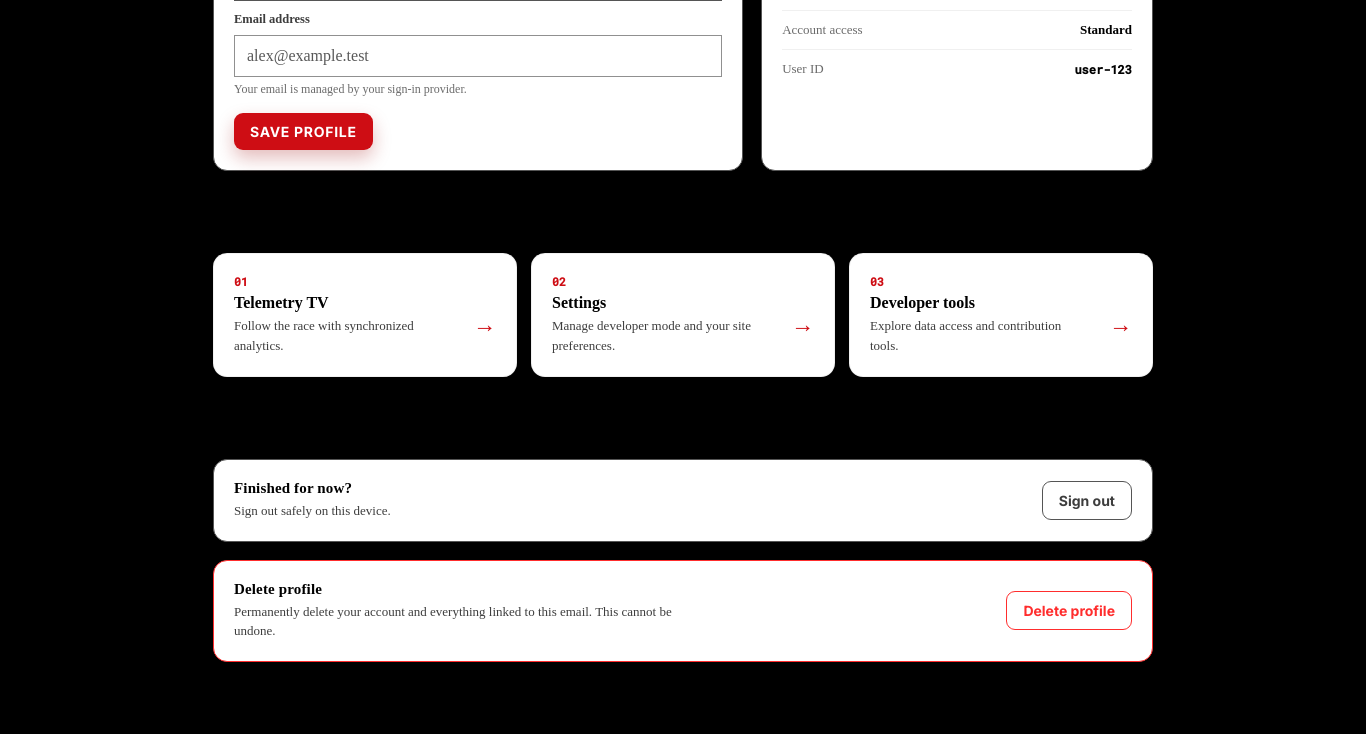
Test: ProfilePage › asks for confirmation before deleting and can be cancelled
(page scrolled)
Click the button "Delete profile": (1069, 610) top-left (1006, 591), bottom-right (1132, 630)
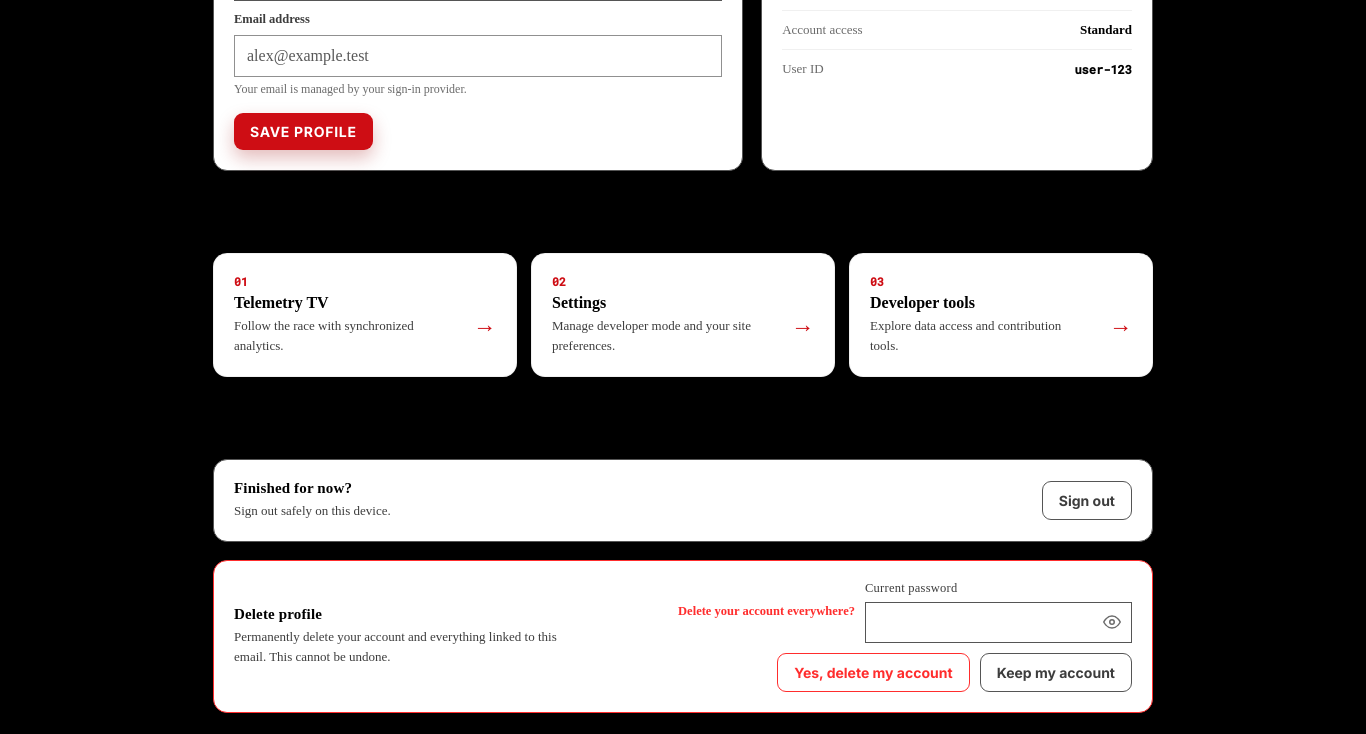
Expected: the element named "Confirm account deletion" is shown, top-left (678, 580), bottom-right (1132, 692)
Click the button "Keep my account": (1056, 672) top-left (980, 652), bottom-right (1132, 692)
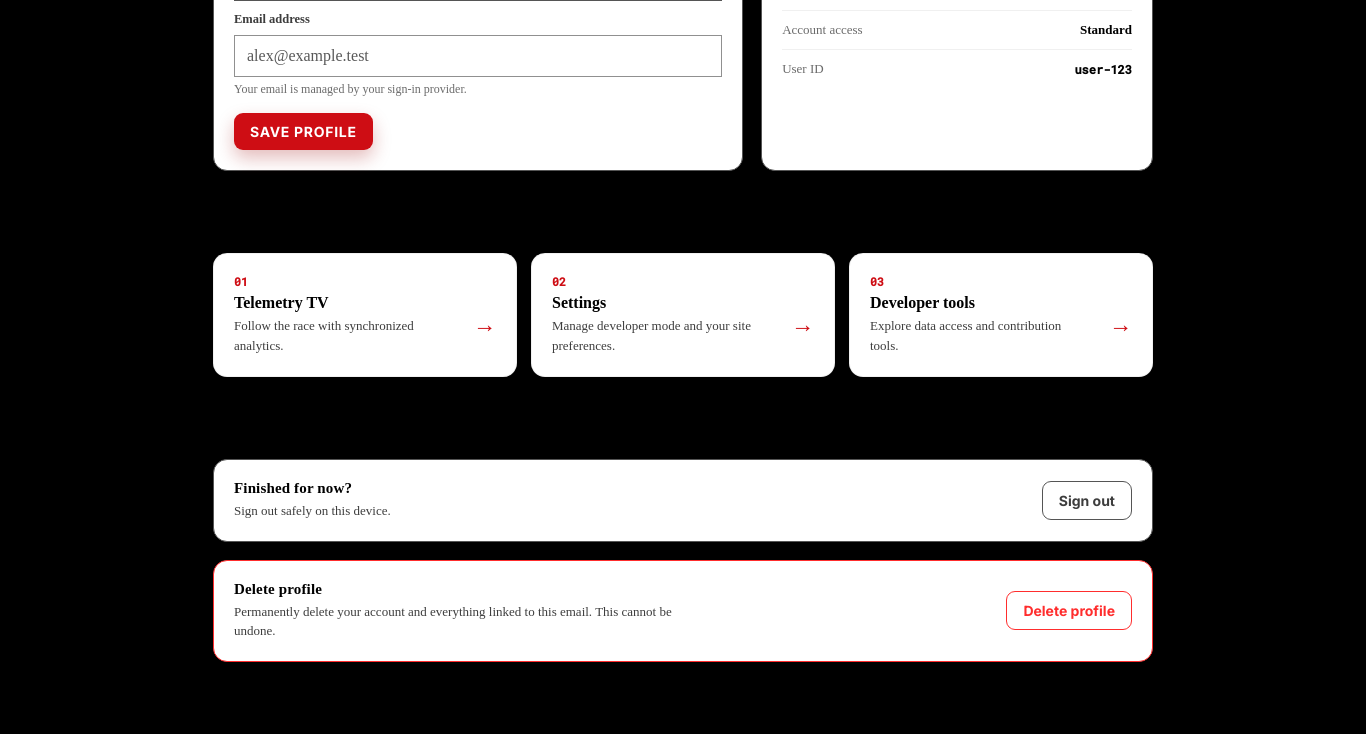
Expected: the button "Delete profile" is shown, top-left (1006, 591), bottom-right (1132, 630)
